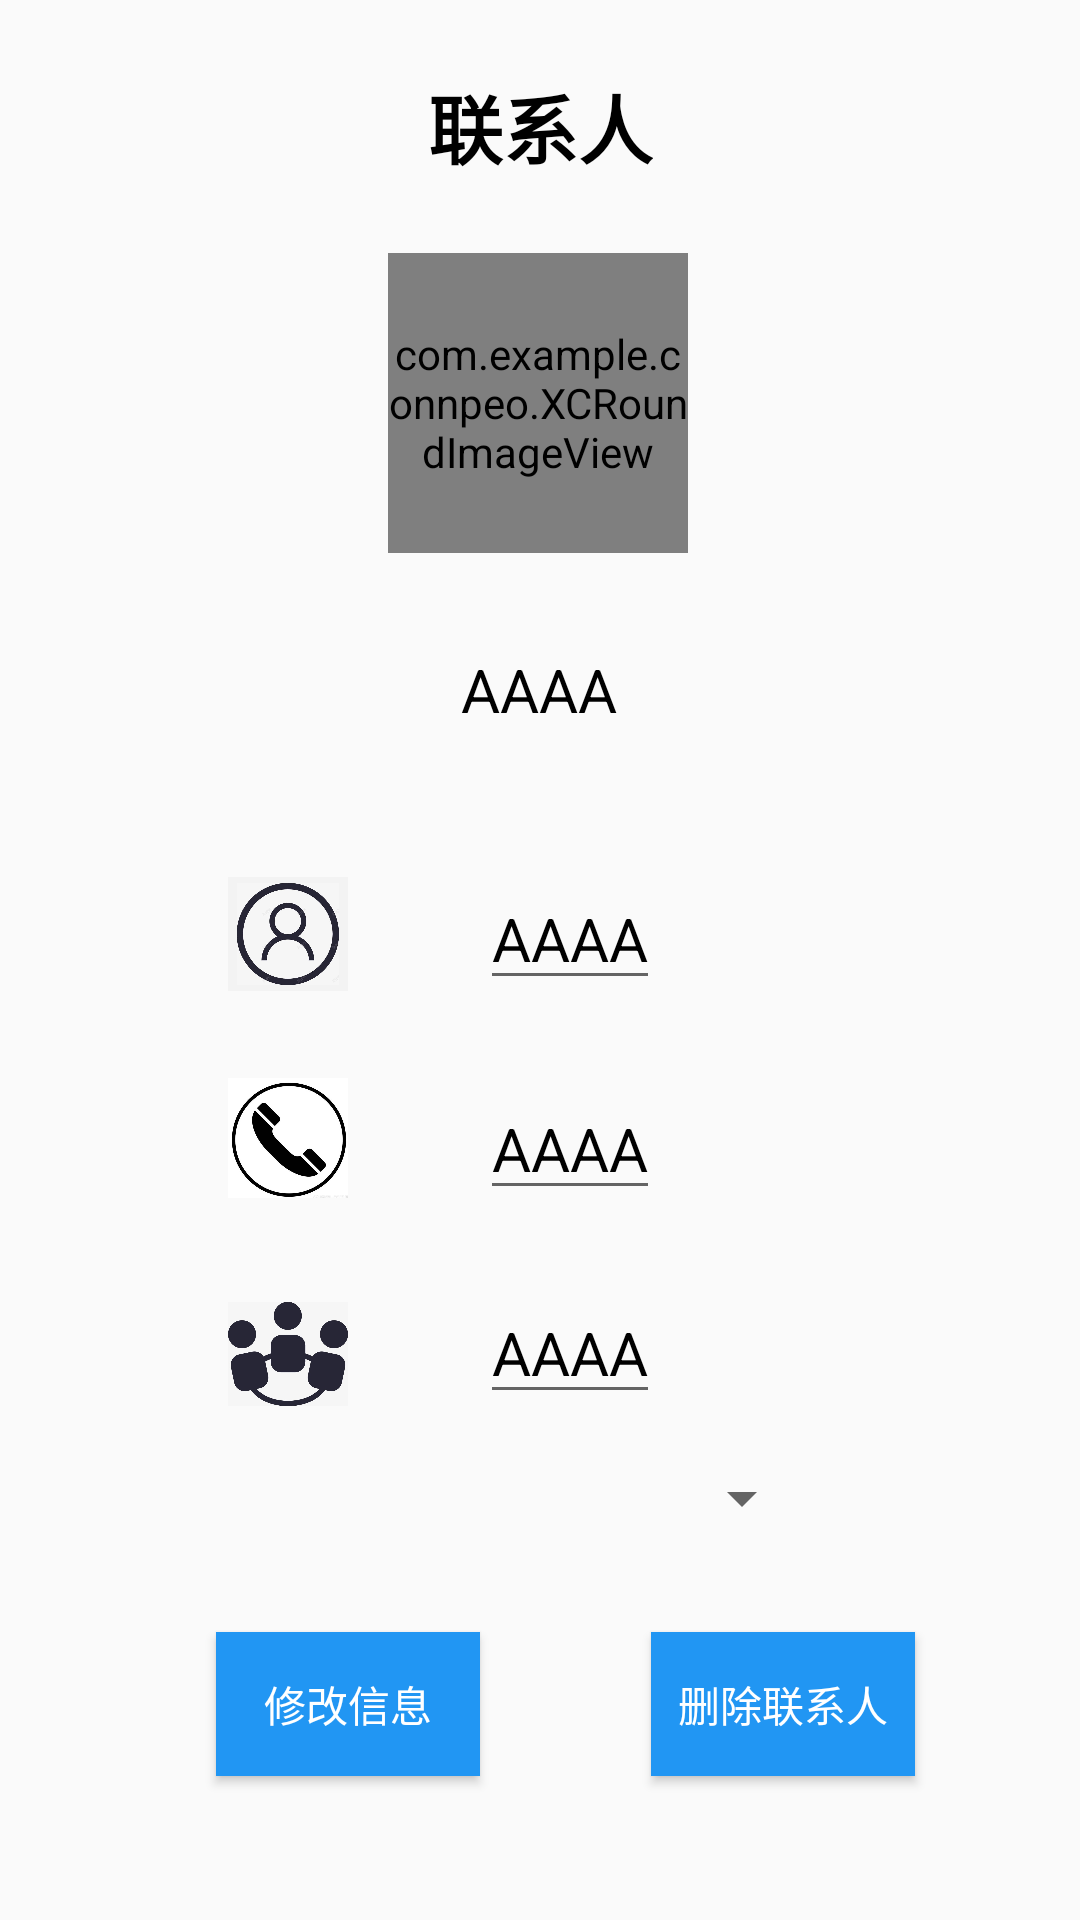

Locate icon controls on the screen. Image size 1080w x 1920h, boxes as (x1, y1, x2, y2).
peo: (237, 883, 339, 985)
tel: (232, 1083, 348, 1198)
